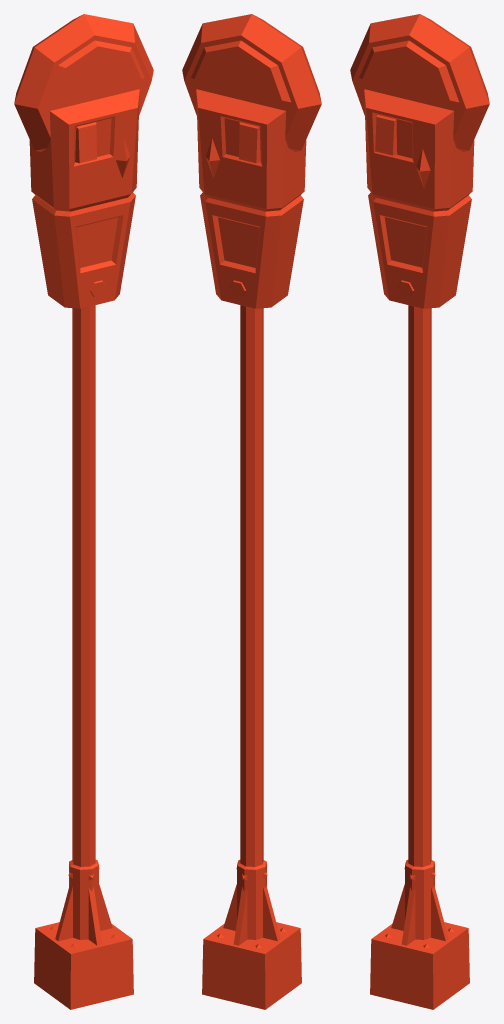
Rendered from SM_Parking_Machine_B_City.fbx.
The picture shows the model from 3 angles, left to right: view 1: azimuth 30°, elevation 25°; view 2: azimuth 150°, elevation 25°; view 3: azimuth 330°, elevation 25°; orthographic projection.
Parts seen in each view (by area): view 1: SM_Parking_Machine_B_City; view 2: SM_Parking_Machine_B_City; view 3: SM_Parking_Machine_B_City.
Part boxes in pixels (left/top/right/bottom): SM_Parking_Machine_B_City: left=14, top=14, right=153, bottom=1009; SM_Parking_Machine_B_City: left=182, top=14, right=321, bottom=1009; SM_Parking_Machine_B_City: left=350, top=14, right=489, bottom=1009.
Bounding box in the file's own units: 0.2868 × 1.91 × 0.1532.
